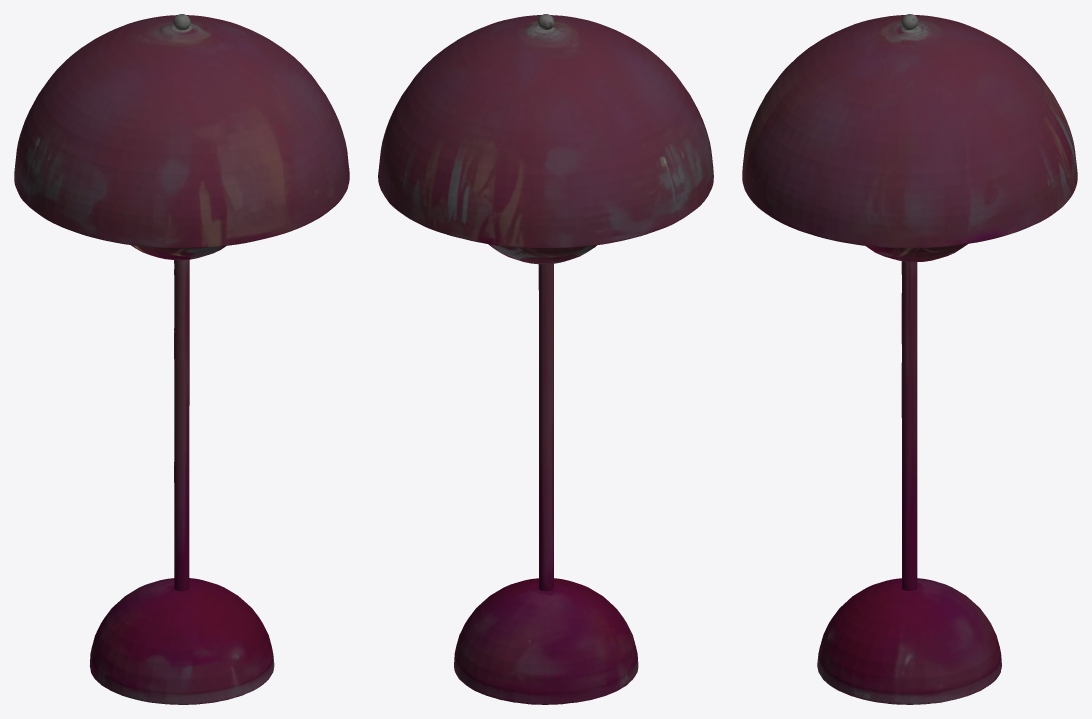
The picture shows the model from 3 angles, left to right: view 1: azimuth 30°, elevation 25°; view 2: azimuth 150°, elevation 25°; view 3: azimuth 270°, elevation 25°; orthographic projection.
Visible parts, largest first — view 1: tripo_node_f48c229e-0cef-4ab8-b06b-e9f8d3d547f6; view 2: tripo_node_f48c229e-0cef-4ab8-b06b-e9f8d3d547f6; view 3: tripo_node_f48c229e-0cef-4ab8-b06b-e9f8d3d547f6.
Boxes of the visible parts, <box> form: tripo_node_f48c229e-0cef-4ab8-b06b-e9f8d3d547f6: <box>14,14,349,704</box>; tripo_node_f48c229e-0cef-4ab8-b06b-e9f8d3d547f6: <box>378,14,713,704</box>; tripo_node_f48c229e-0cef-4ab8-b06b-e9f8d3d547f6: <box>742,14,1077,704</box>.
Bounding box in the file's own units: 0.4678 × 1 × 0.4671.
1 material, 1 textured.
